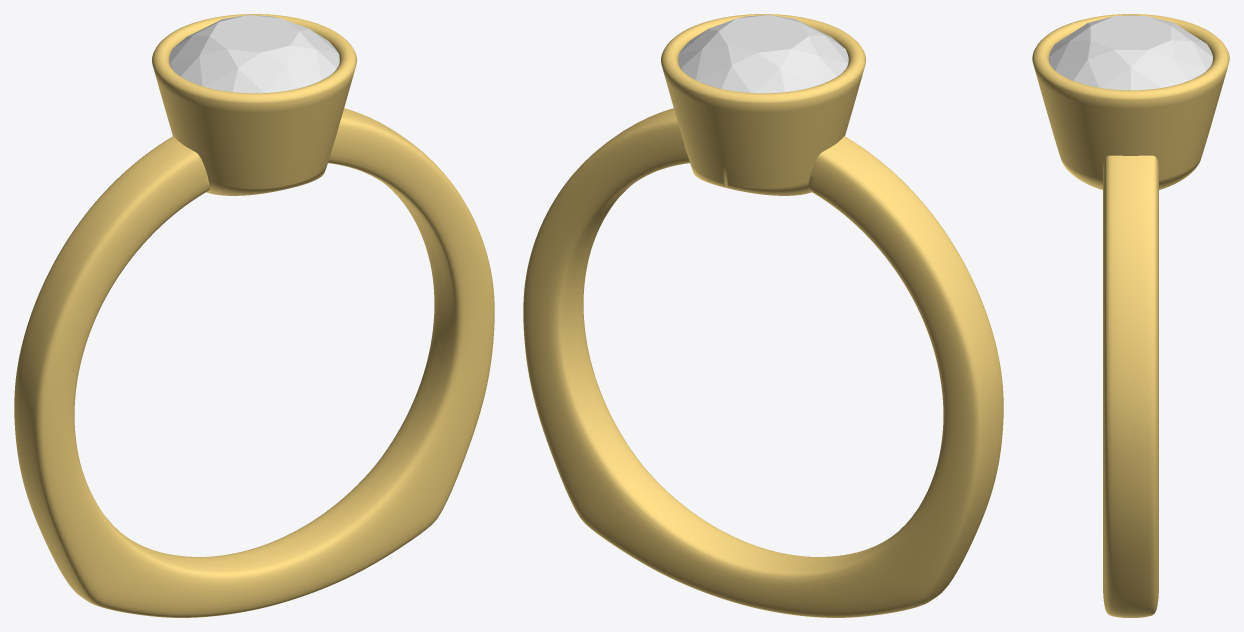
File: diamond-round-yellowgold-bezelset-europeanshank-nosidestones.glb
The picture shows the model from 3 angles, left to right: view 1: azimuth 30°, elevation 25°; view 2: azimuth 150°, elevation 25°; view 3: azimuth 270°, elevation 25°; orthographic projection. The views are drawn at different scales.
Visible parts, largest first — view 1: metal, stone; view 2: metal, stone; view 3: metal, stone.
Boxes of the visible parts, x1,y1,x2,y2 form: metal: (14,14,494,617); stone: (169,15,339,93); metal: (523,14,1003,617); stone: (678,15,848,93); metal: (1032,14,1229,617); stone: (1049,15,1212,90).
Size of the model in its own units: 20.11 by 23.61 by 7.74.
